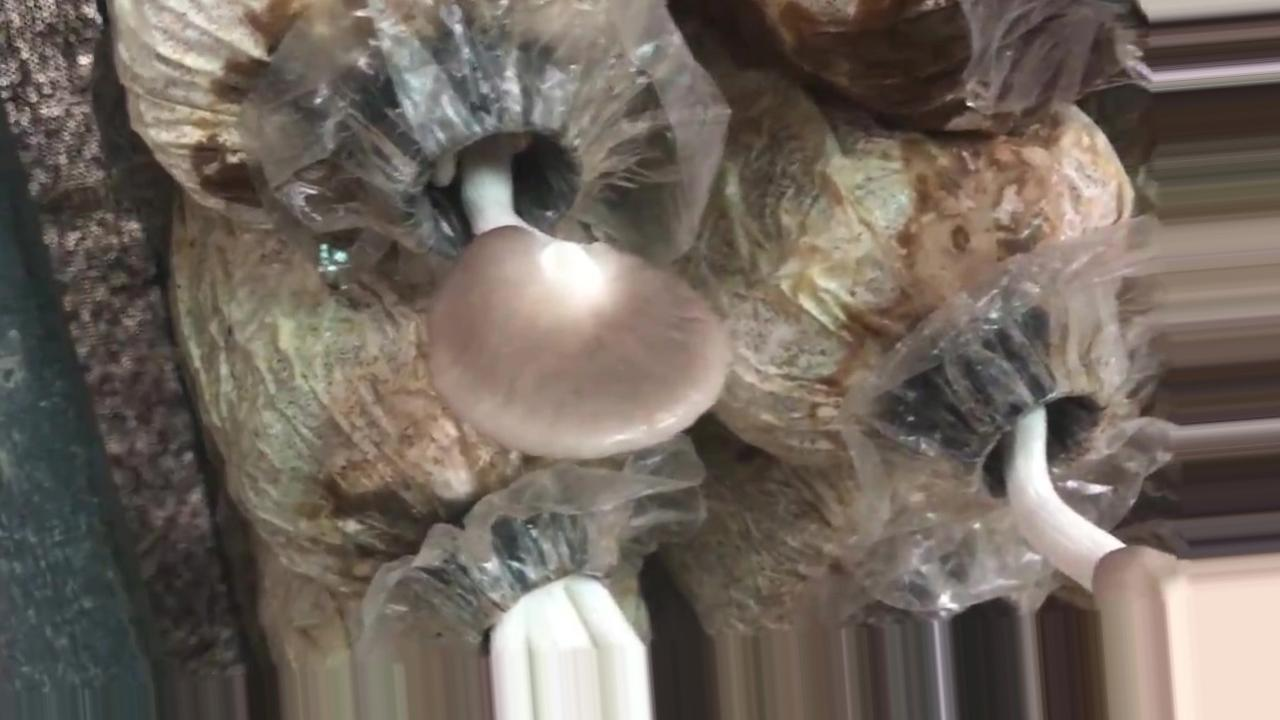nam: (396, 64, 725, 464)
